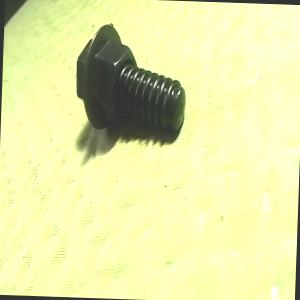parafuso: (74, 21, 190, 142)
